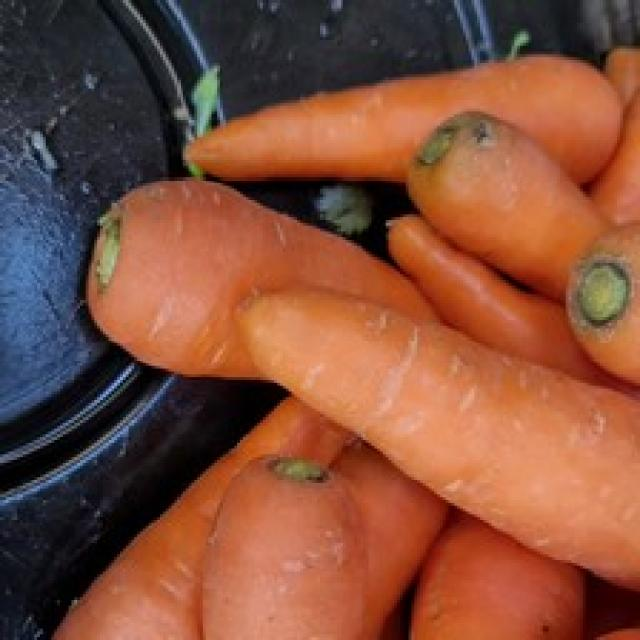Fresh_Carrot: (324, 63, 639, 640)
